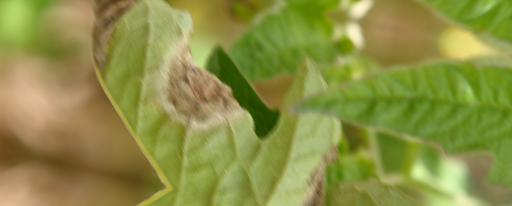Tomato leaf late blight: (24, 0, 500, 206), (234, 1, 512, 206)
